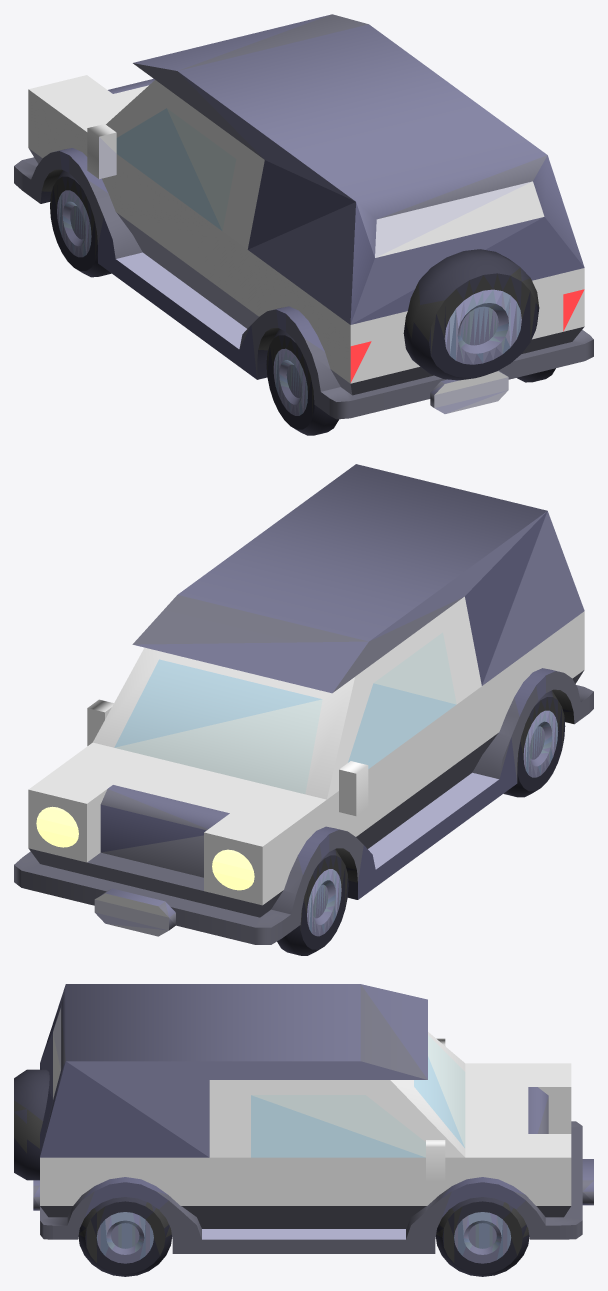
The model's file is utility-suv.glb.
The picture shows the model from 3 angles, top to bottom: view 1: azimuth 30°, elevation 25°; view 2: azimuth 150°, elevation 25°; view 3: azimuth 270°, elevation 25°; orthographic projection. The views are drawn at different scales.
Parts seen in each view (by area): view 1: body, wheel-back, wheel_RL, wheel_FL; view 2: body, wheel_FL, wheel_RL; view 3: body, wheel_RR, wheel_FR, wheel-back.
Part boxes in pixels (x1=…): body: x1=14, y1=14, x2=593, y2=419; wheel-back: x1=403, y1=249, x2=539, y2=380; wheel_RL: x1=266, y1=329, x2=338, y2=435; wheel_FL: x1=50, y1=170, x2=111, y2=277; body: x1=14, y1=464, x2=593, y2=944; wheel_FL: x1=277, y1=849, x2=348, y2=955; wheel_RL: x1=503, y1=690, x2=565, y2=797; body: x1=33, y1=984, x2=593, y2=1253; wheel_RR: x1=78, y1=1197, x2=171, y2=1276; wheel_FR: x1=436, y1=1197, x2=529, y2=1276; wheel-back: x1=14, y1=1069, x2=49, y2=1180.
Size of the model in its own units: 1.98 by 1.77 by 4.48.
